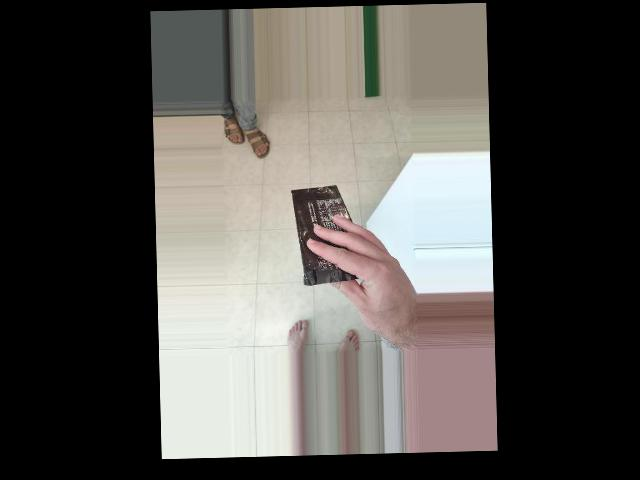chocolate: (212, 162, 330, 247)
